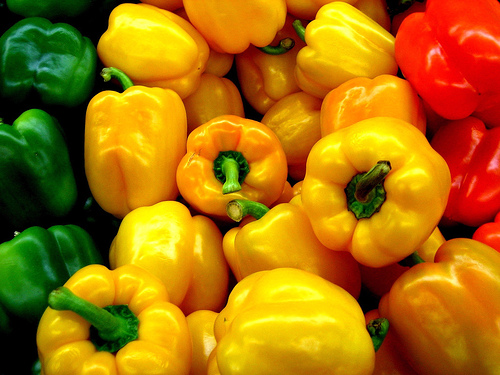capsicum: (301, 115, 452, 270)
